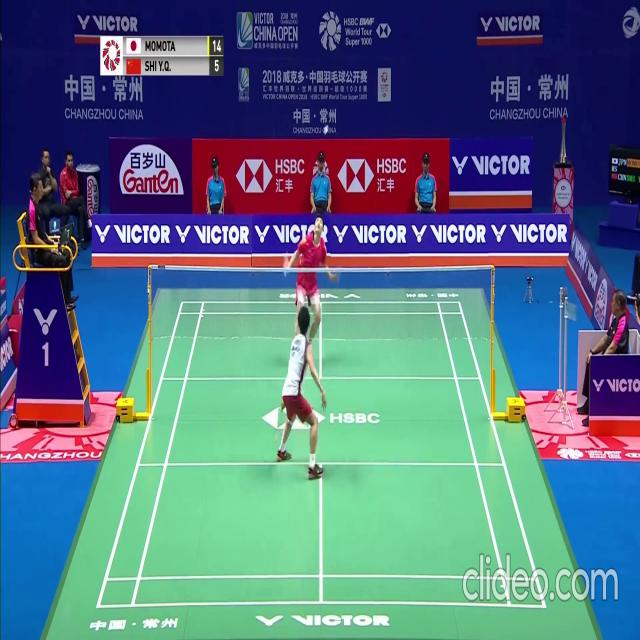Shuttlecock: (324, 124, 329, 132)
